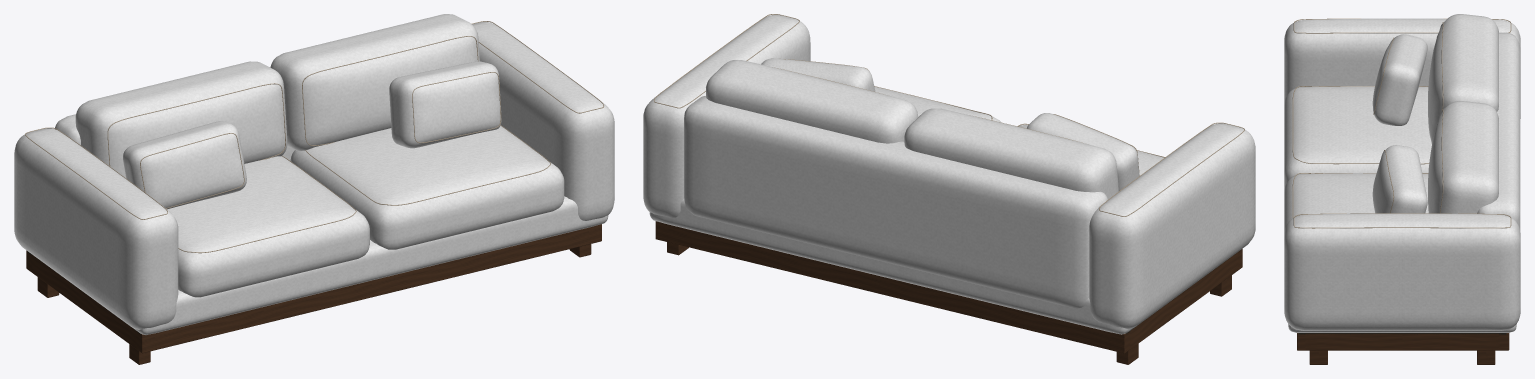
Rendered from arc-compact.glb.
The picture shows the model from 3 angles, left to right: view 1: azimuth 30°, elevation 25°; view 2: azimuth 150°, elevation 25°; view 3: azimuth 270°, elevation 25°; orthographic projection. The views are drawn at different scales.
Parts seen in each view (by area): view 1: Tailored arm | left, Seat panel 2 | crowned top, Seat panel 1 | crowned top, Back cushion 2 | tensioned face, Back cushion 1 | tensioned face, Tailored arm | right, Upholstered support platform, Walnut | long rail, Lumbar cushion | right, Lumbar cushion | left, Walnut | return rail, Continuous upholstered rear rail; view 2: Continuous upholstered rear rail, Tailored arm | left, Back cushion 1 | tensioned face, Back cushion 2 | tensioned face, Tailored arm | right, Walnut | long rail.001, Upholstered support platform, Lumbar cushion | left, Walnut | return rail, Lumbar cushion | right, Seat panel 2 | crowned top; view 3: Tailored arm | right, Seat panel 1 | crowned top, Tailored arm | left, Back cushion 2 | tensioned face, Back cushion 1 | tensioned face, Continuous upholstered rear rail, Seat panel 2 | crowned top, Lumbar cushion | left, Walnut | return rail.001, Lumbar cushion | right, Tailored arm | right | inset welt, Upholstered support platform (+7 smaller).
Boxes of the visible parts, box(x1,y1,x2,y2) form: Tailored arm | left: box(14, 128, 178, 329); Seat panel 2 | crowned top: box(290, 125, 564, 249); Seat panel 1 | crowned top: box(167, 156, 369, 297); Back cushion 2 | tensioned face: box(270, 14, 479, 150); Back cushion 1 | tensioned face: box(75, 61, 287, 177); Tailored arm | right: box(472, 21, 614, 220); Upholstered support platform: box(133, 196, 608, 334); Walnut | long rail: box(131, 224, 601, 353); Lumbar cushion | right: box(389, 61, 501, 148); Lumbar cushion | left: box(123, 121, 246, 209); Walnut | return rail: box(31, 254, 137, 349); Continuous upholstered rear rail: box(55, 66, 294, 160); Continuous upholstered rear rail: box(684, 96, 1107, 308); Tailored arm | left: box(1089, 123, 1255, 329); Back cushion 1 | tensioned face: box(904, 108, 1118, 199); Back cushion 2 | tensioned face: box(706, 60, 918, 143); Tailored arm | right: box(643, 14, 810, 217); Walnut | long rail.001: box(655, 221, 1130, 353); Upholstered support platform: box(649, 199, 1134, 334); Lumbar cushion | left: box(1027, 113, 1139, 191); Walnut | return rail: box(1130, 252, 1238, 349); Lumbar cushion | right: box(761, 58, 875, 91); Seat panel 2 | crowned top: box(874, 86, 1001, 122); Tailored arm | right: box(1284, 213, 1520, 330); Seat panel 1 | crowned top: box(1284, 86, 1431, 188); Tailored arm | left: box(1284, 18, 1520, 118); Back cushion 2 | tensioned face: box(1428, 101, 1498, 213); Back cushion 1 | tensioned face: box(1428, 14, 1498, 143); Continuous upholstered rear rail: box(1477, 32, 1520, 230); Seat panel 2 | crowned top: box(1284, 173, 1428, 232); Lumbar cushion | left: box(1372, 34, 1427, 125); Walnut | return rail.001: box(1305, 333, 1499, 350); Lumbar cushion | right: box(1372, 145, 1427, 213); Tailored arm | right | inset welt: box(1293, 213, 1511, 228); Upholstered support platform: box(1288, 324, 1516, 332).
Size of the model in its own units: 2.24 by 0.8154 by 1.03.
Materials: 4 (2 with a texture image).
